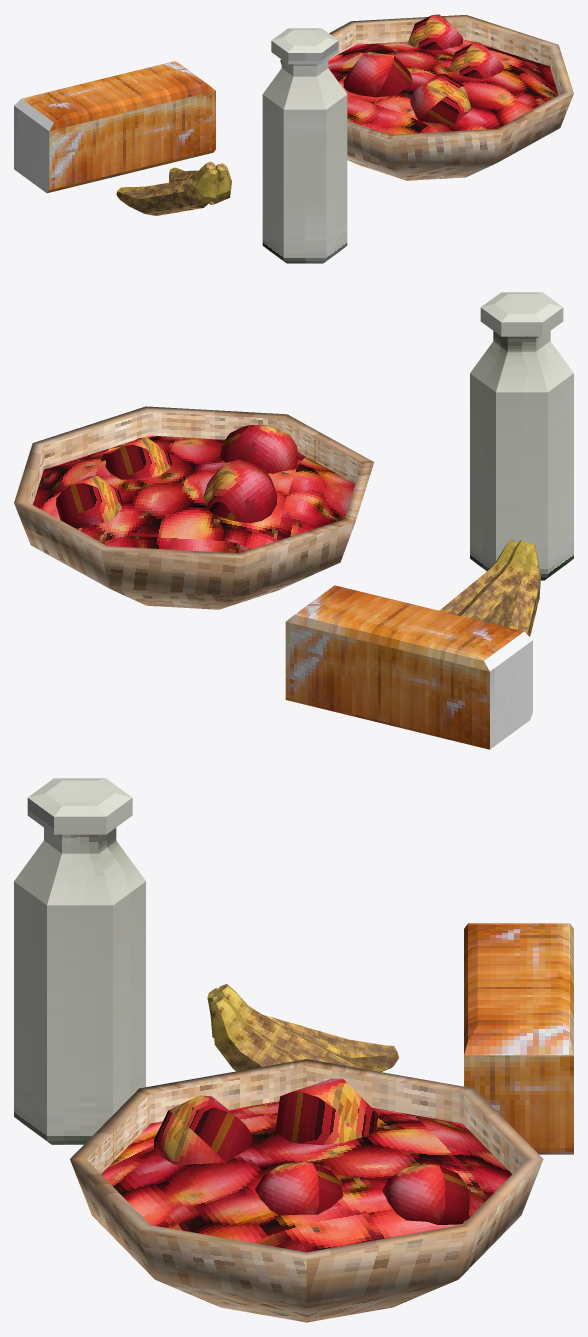
The model's file is Pantry.fbx.
The picture shows the model from 3 angles, top to bottom: view 1: azimuth 30°, elevation 25°; view 2: azimuth 150°, elevation 25°; view 3: azimuth 270°, elevation 25°; orthographic projection. The views are drawn at different scales.
Visible parts, largest first — view 1: apples, bread, milk, bananas; view 2: apples, bread, milk, bananas; view 3: apples, milk, bread, bananas.
Boxes of the visible parts, box(x1,y1,x2,y2) form: apples: box(280, 14, 573, 180); bread: box(14, 61, 215, 193); milk: box(262, 28, 347, 263); bananas: box(116, 161, 231, 215); apples: box(14, 406, 373, 609); bread: box(285, 585, 532, 749); milk: box(470, 292, 573, 580); bananas: box(439, 539, 540, 636); apples: box(70, 1059, 543, 1322); milk: box(14, 778, 145, 1144); bread: box(464, 923, 573, 1154); bananas: box(207, 984, 399, 1071).
Bounding box in the file's own units: 893 × 422 × 606.
